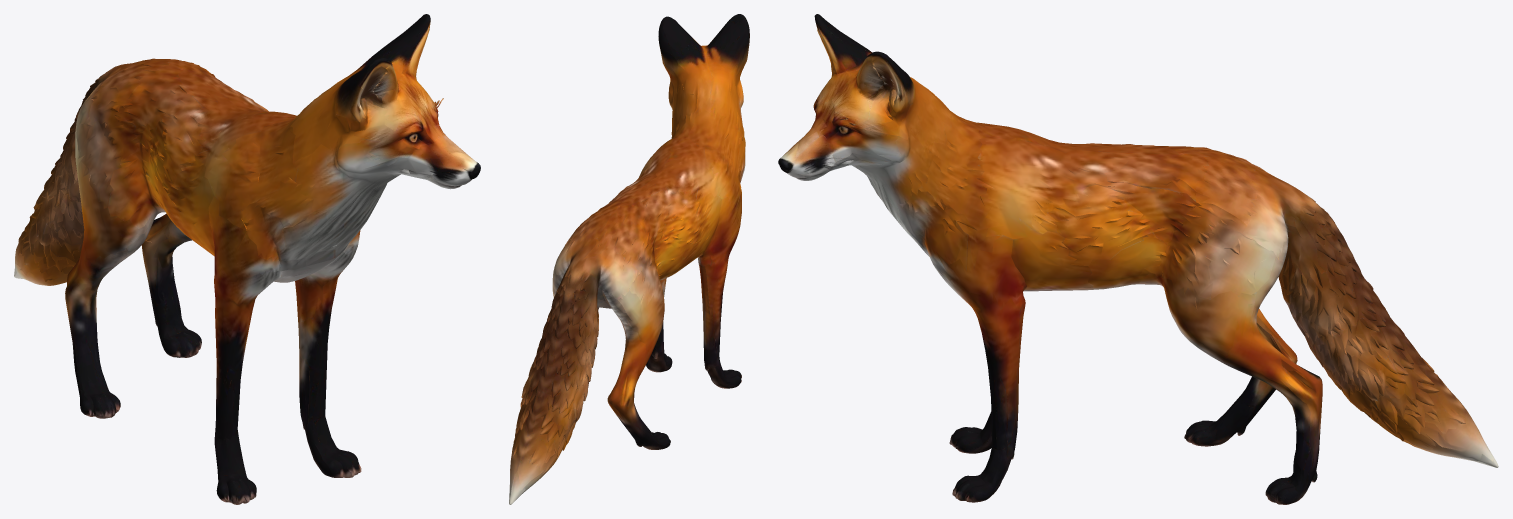
The model's file is red-fox.glb.
3 renders of one model, left to right at view 1: azimuth 30°, elevation 25°; view 2: azimuth 150°, elevation 25°; view 3: azimuth 270°, elevation 25°, orthographic. The views are drawn at different scales.
Size of the model in its own units: 0.5258 by 1.34 by 1.9.
Materials: 1 (1 with a texture image).
